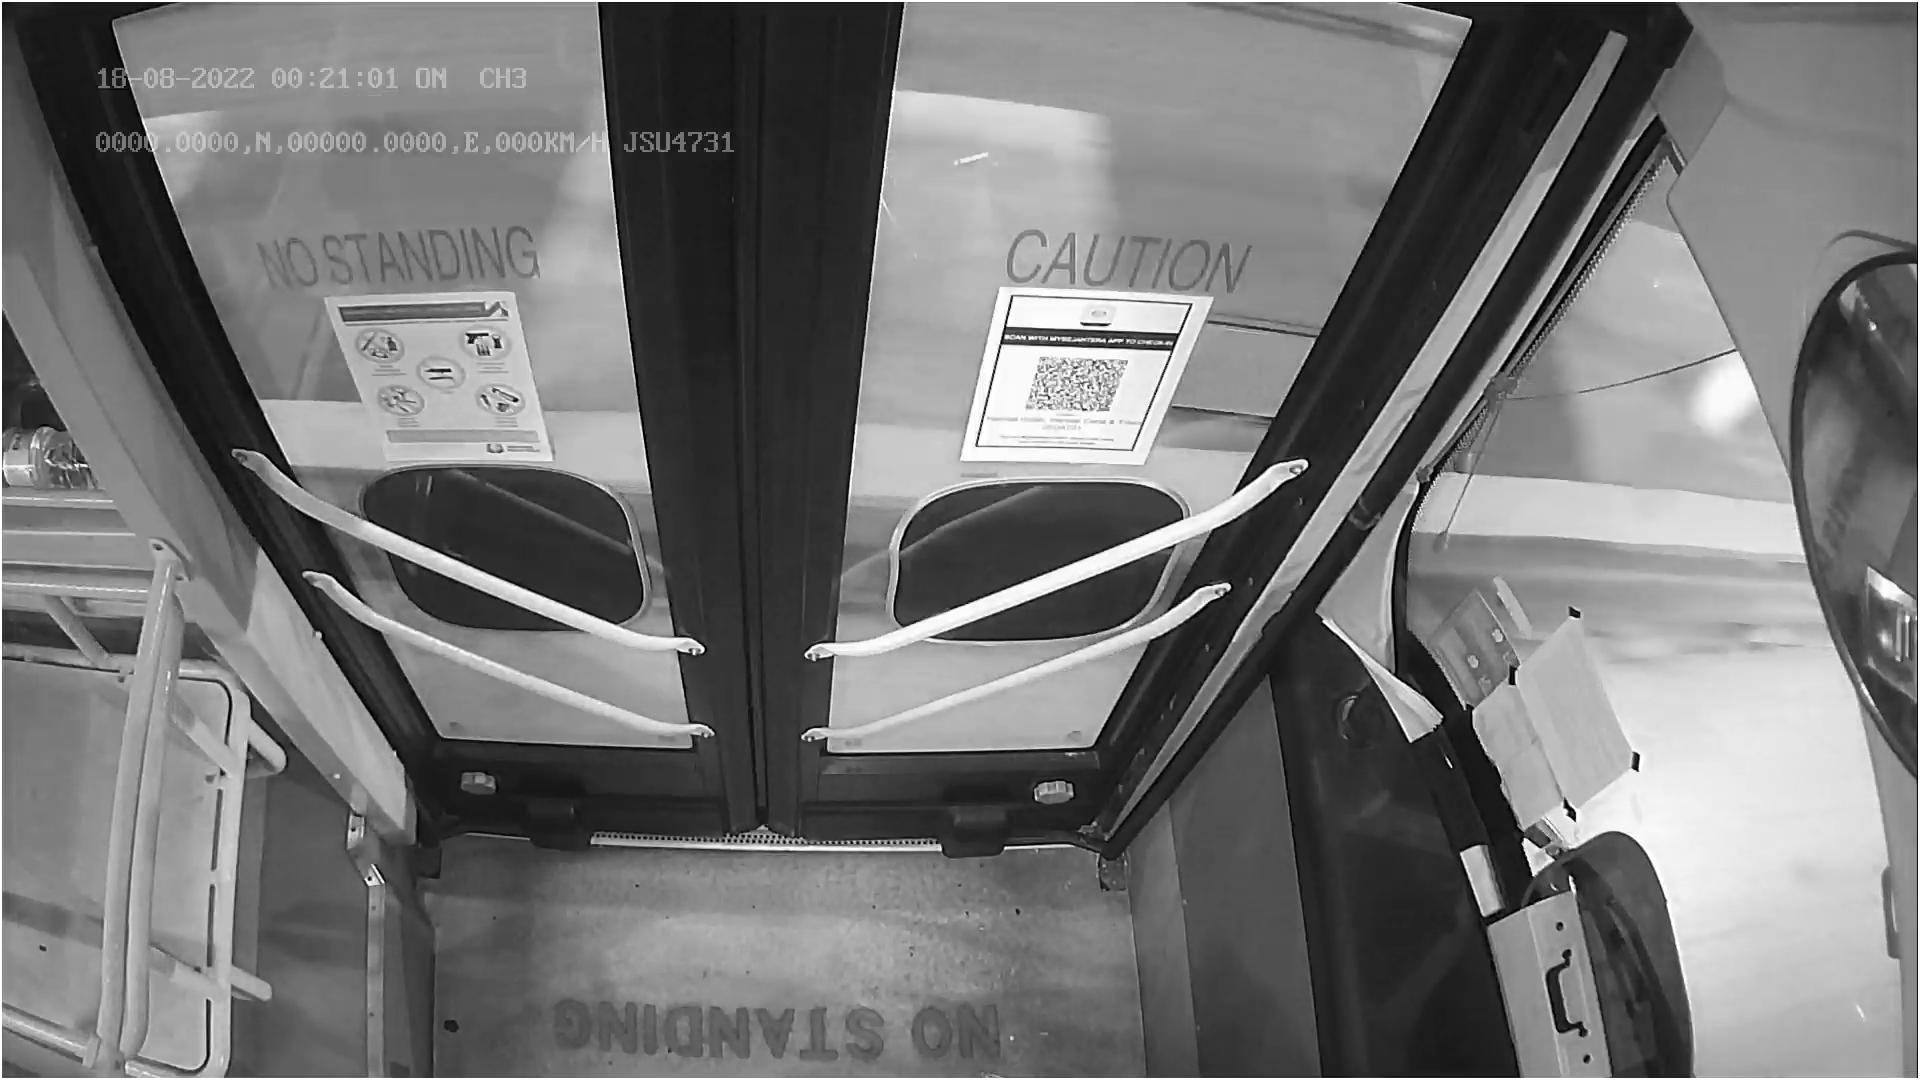close: (124, 0, 1445, 160)
